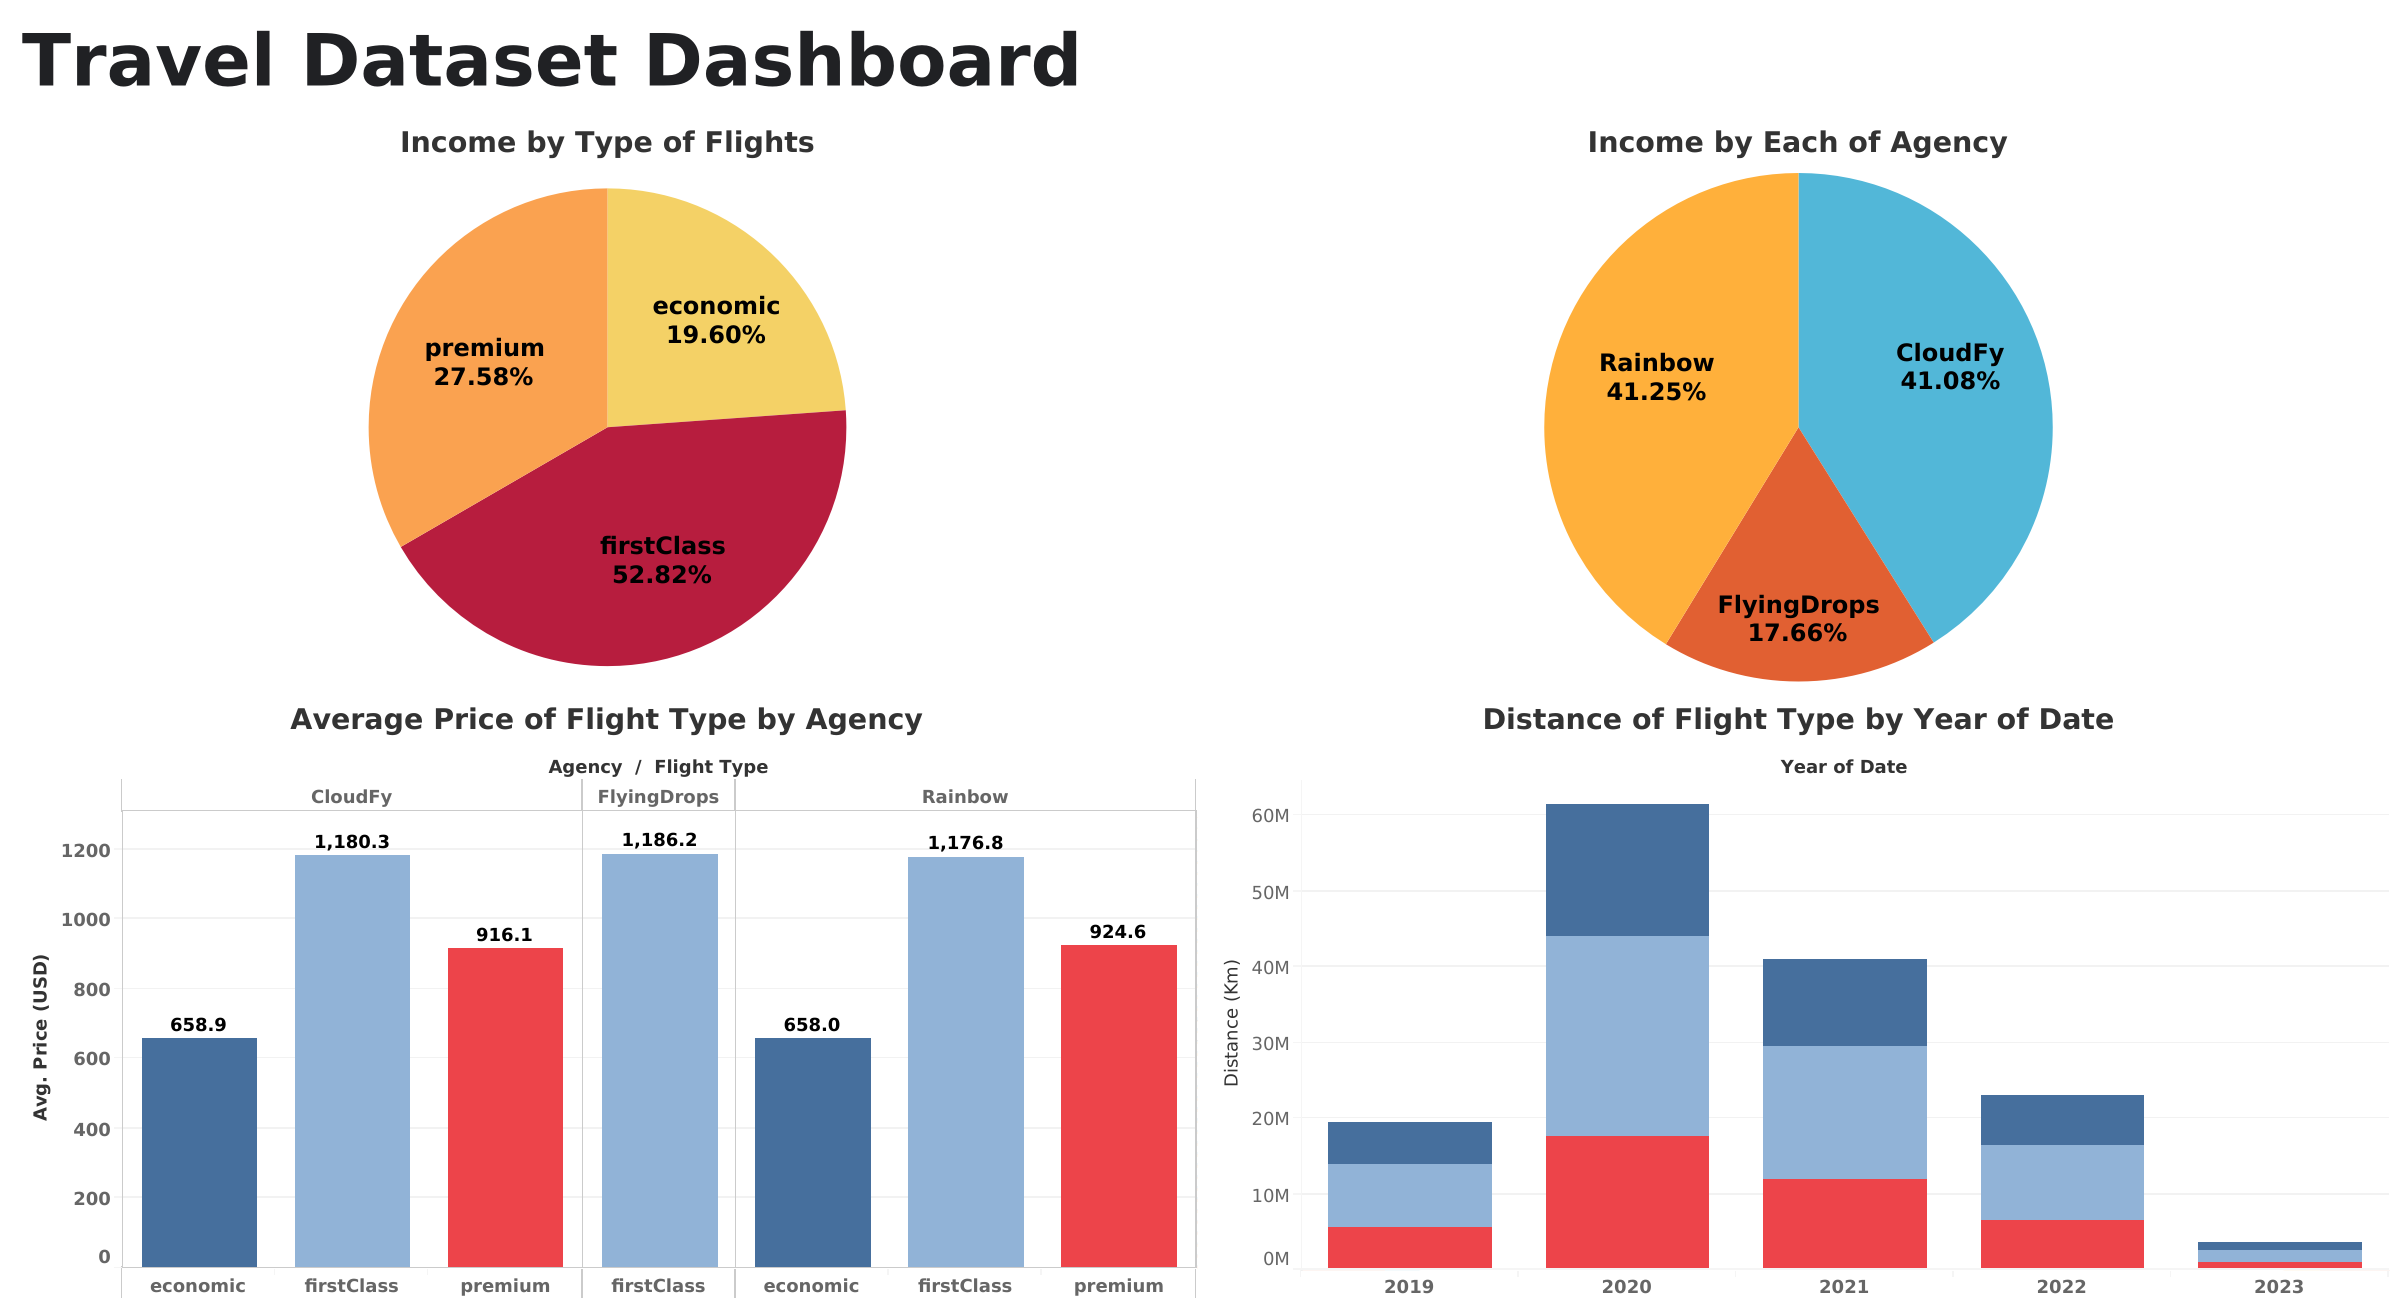

The dashboard page shown, as its layout file describes it:
{"tool":"tableau","page":{"name":"Travel Dataset Dashboard","canvas":[1000,1000],"units":"permille","ordinal":0},"visuals":[{"type":"title","box":[5,9.1,990,131]},{"type":"worksheet","title":"Income by Type of flights","mark":"Pie","box":[5,140.1,495,411.2]},{"type":"worksheet","title":"Income by Each of Agency","mark":"Pie","box":[500,140.1,495,411.2]},{"type":"worksheet","title":"Average Price of Flight Type by Agency","mark":"Bar","rows":["price"],"cols":["agency","flightType"],"box":[5,551.2,495,439.7]},{"type":"worksheet","title":"Distance of Flight Type by Year of Date","mark":"Bar","rows":["distance"],"cols":["date"],"box":[500,551.2,495,439.7]}]}

Visuals, with their boxes on the dashboard's canvas, which has no fixed pixel size, in thousandths of its width and height (x1, y1, x2, y2). These are canvas units, not pixel positions in the 2405x1316 screenshot, which may show the page scaled, cropped or inside an application window:
title: rect(5, 9, 995, 140)
"Income by Type of flights" worksheet (Pie marks): rect(5, 140, 500, 551)
"Income by Each of Agency" worksheet (Pie marks): rect(500, 140, 995, 551)
"Average Price of Flight Type by Agency" worksheet (Bar marks): rect(5, 551, 500, 991)
"Distance of Flight Type by Year of Date" worksheet (Bar marks): rect(500, 551, 995, 991)
